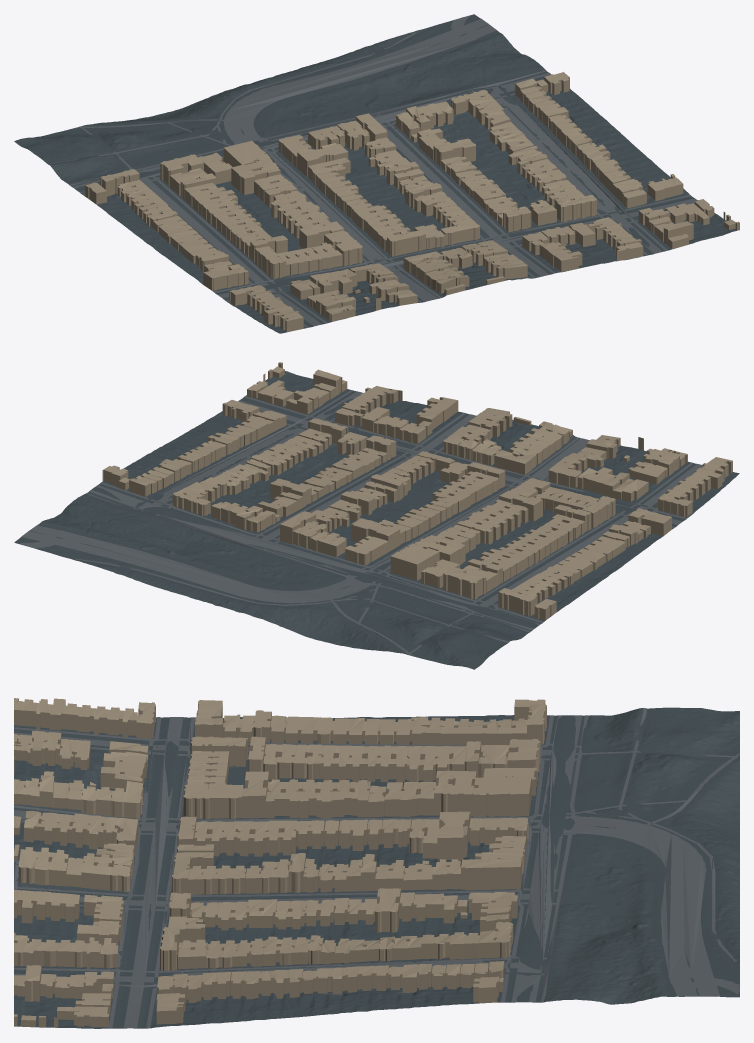
File: epsg26910-1420-10887.lod0.glb
3 views of the same model, one above another, from view 1: azimuth 30°, elevation 25°; view 2: azimuth 150°, elevation 25°; view 3: azimuth 270°, elevation 25° (orthographic). The views are drawn at different scales.
Visible parts, largest first — view 1: epsg26910-1420-10887-lod0; view 2: epsg26910-1420-10887-lod0; view 3: epsg26910-1420-10887-lod0.
Boxes of the visible parts, box(x1,y1,x2,y2) form: epsg26910-1420-10887-lod0: box(14, 14, 739, 333); epsg26910-1420-10887-lod0: box(14, 362, 739, 669); epsg26910-1420-10887-lod0: box(14, 698, 739, 1028).
Bounding box in the file's own units: 384 × 25.73 × 384.
